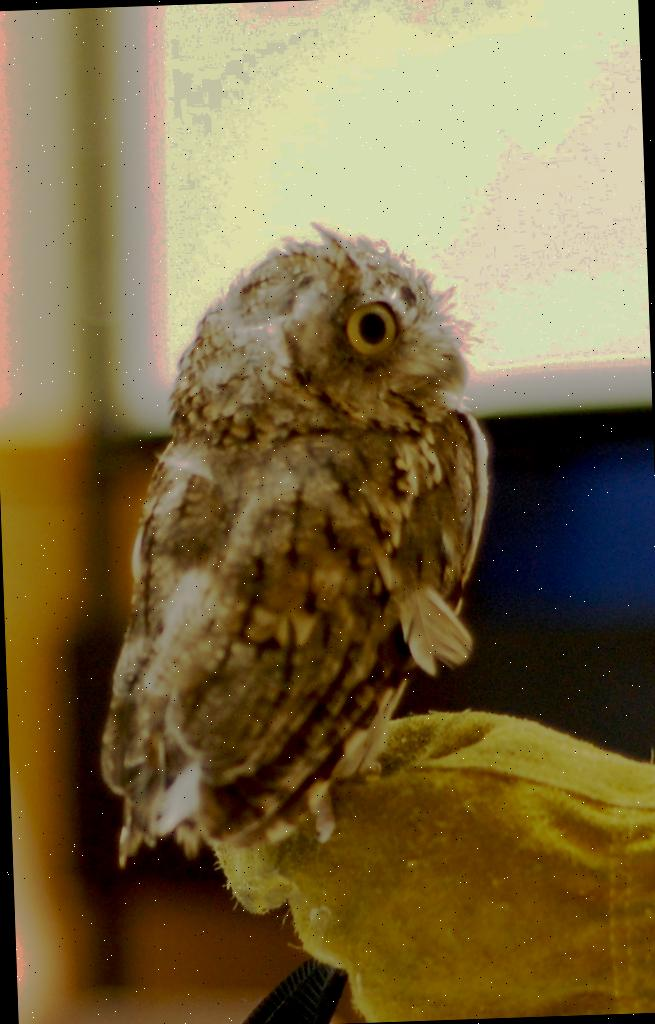Owl: (76, 223, 508, 873)
